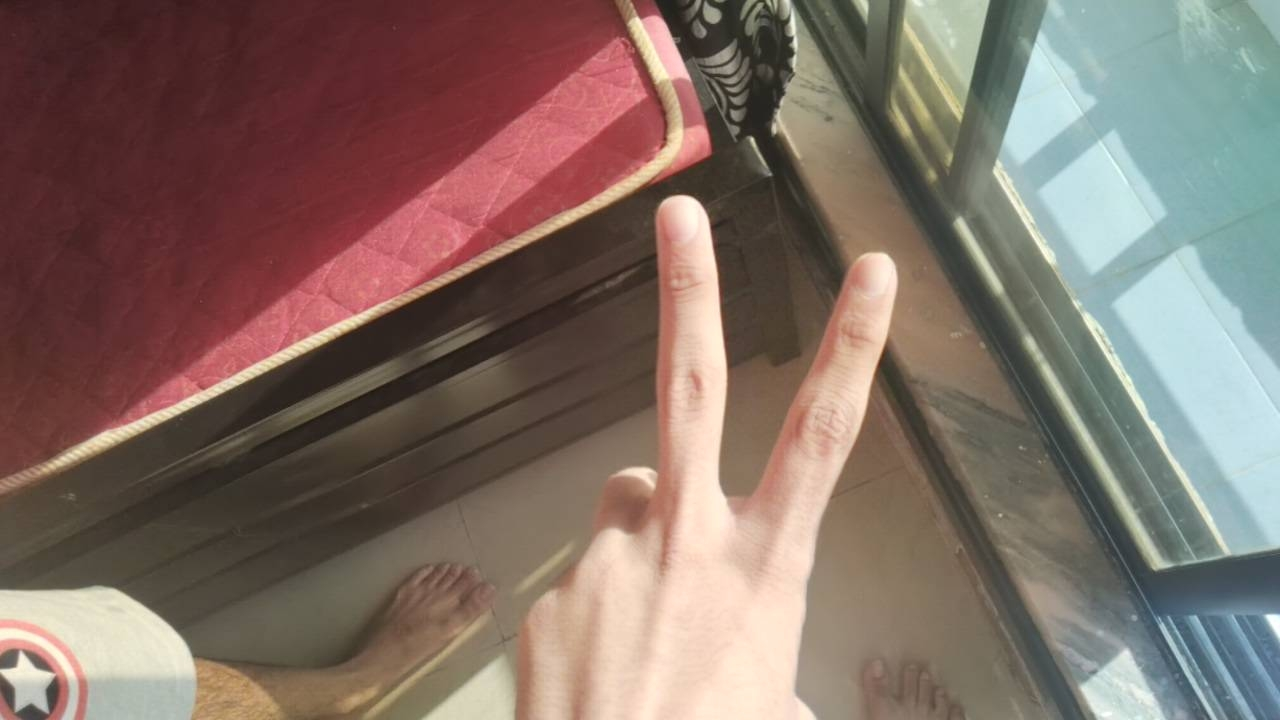fingertip: (650, 188, 716, 260), (842, 244, 910, 312)
